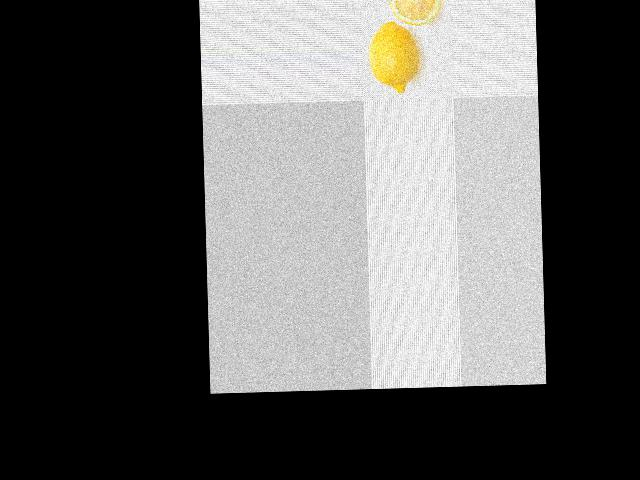lemon: (366, 21, 424, 99)
